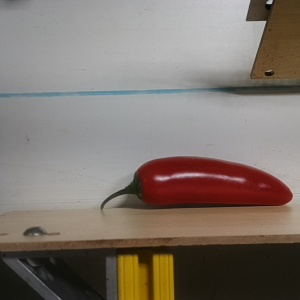Cut Point: (126, 160, 159, 208)
